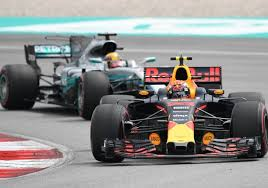FormulaOneCar: (88, 63, 268, 161), (1, 32, 160, 120)
